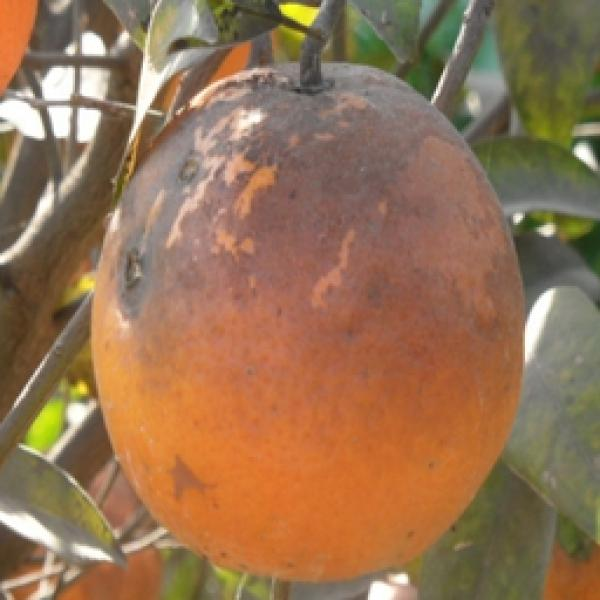Machas negras: (83, 40, 531, 587)
